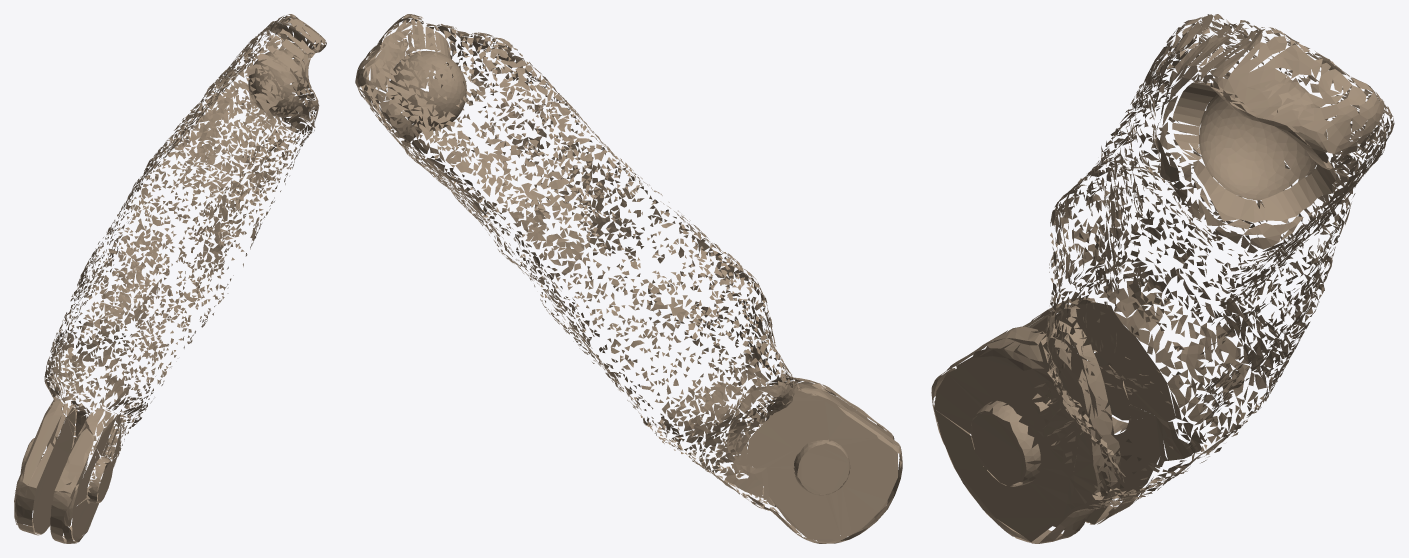
Rendered from rocky_pata_derecha_superior.obj.
The picture shows the model from 3 angles, left to right: view 1: azimuth 30°, elevation 25°; view 2: azimuth 150°, elevation 25°; view 3: azimuth 270°, elevation 25°; orthographic projection. The views are drawn at different scales.
Size of the model in its own units: 0.332 by 0.3451 by 0.1887.
Materials: 1 (1 with a texture image).
